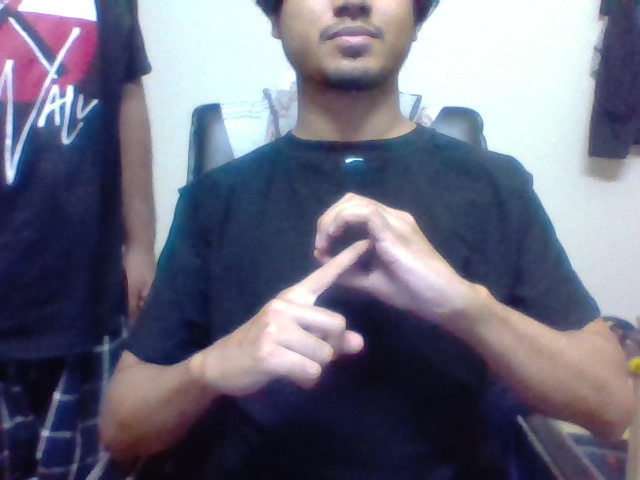Q: (317, 210, 398, 291)
